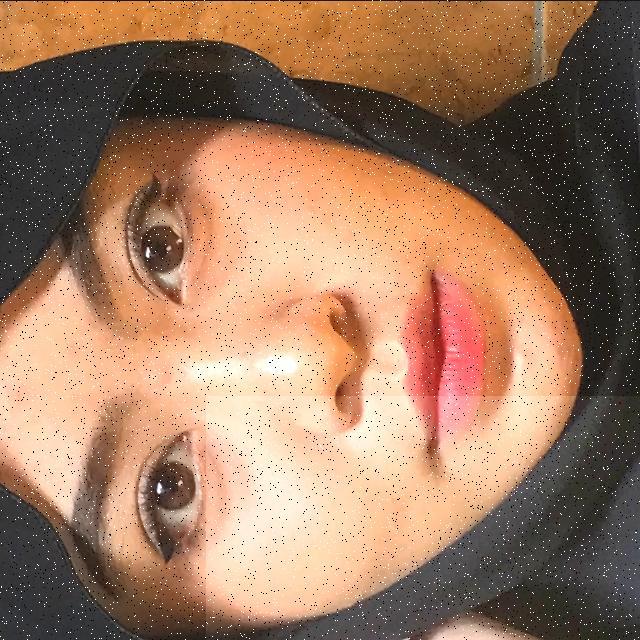ibu: (206, 395, 640, 640)
